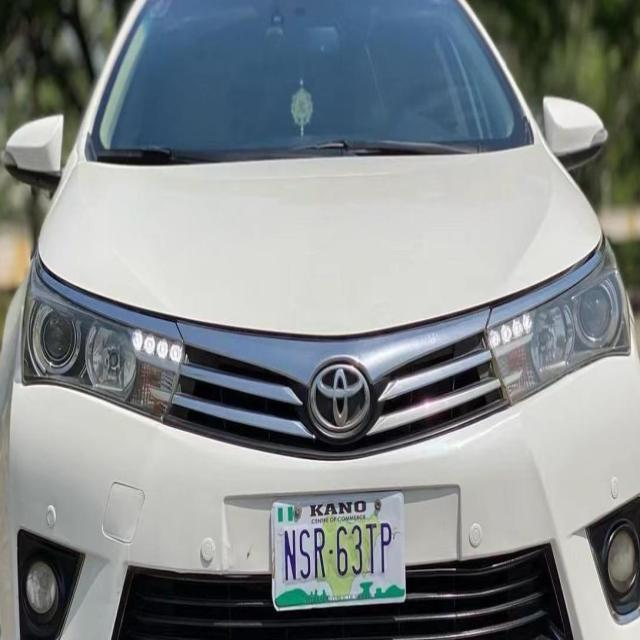Nigerian License Plate - vdataset benjamin-daria: (269, 488, 409, 615)
